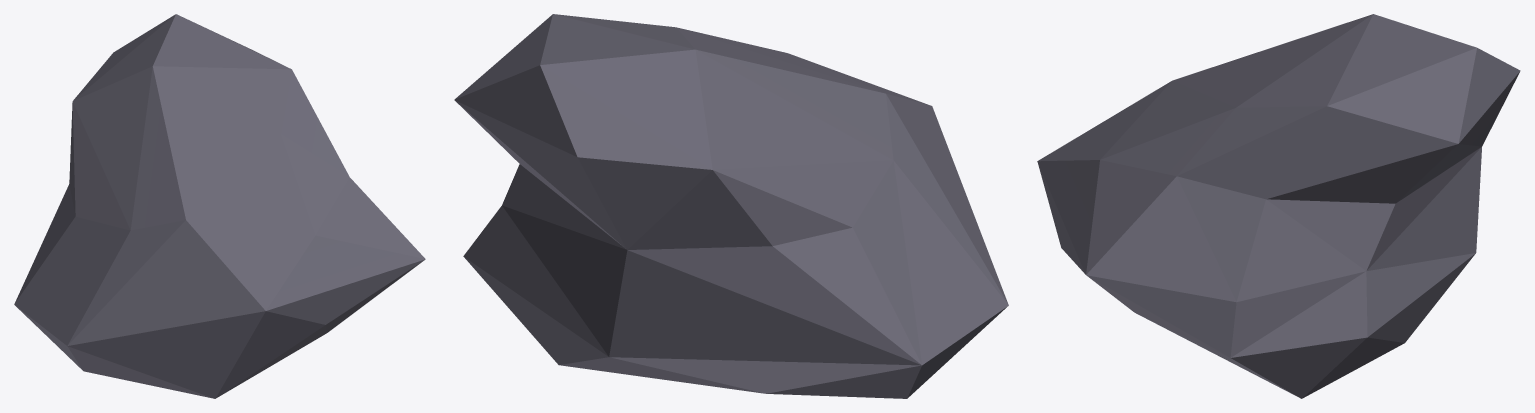
File: bigrock3.fbx
3 renders of one model, left to right at view 1: azimuth 30°, elevation 25°; view 2: azimuth 150°, elevation 25°; view 3: azimuth 270°, elevation 25°, orthographic. The views are drawn at different scales.
Visible parts, largest first — view 1: rock.007; view 2: rock.007; view 3: rock.007.
Part boxes in pixels (box(x1,y1,x2,y2)): rock.007: box(14, 14, 425, 398); rock.007: box(454, 14, 1008, 398); rock.007: box(1037, 14, 1520, 398).
Size of the model in its own units: 158 by 123 by 165.
